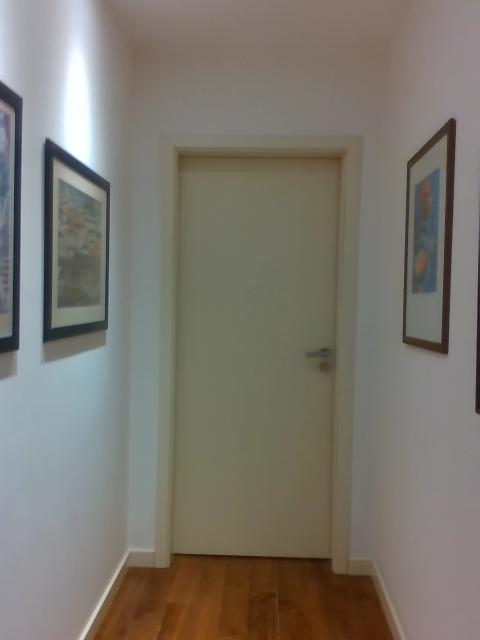door: (170, 155, 340, 556)
